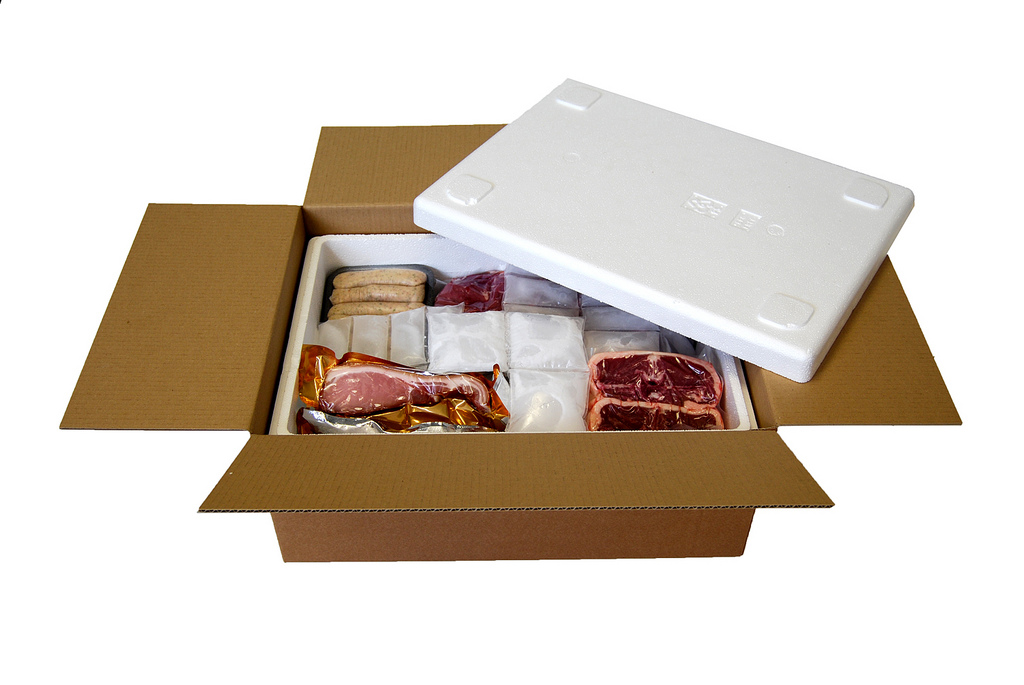Boxes: (270, 234, 757, 434)
